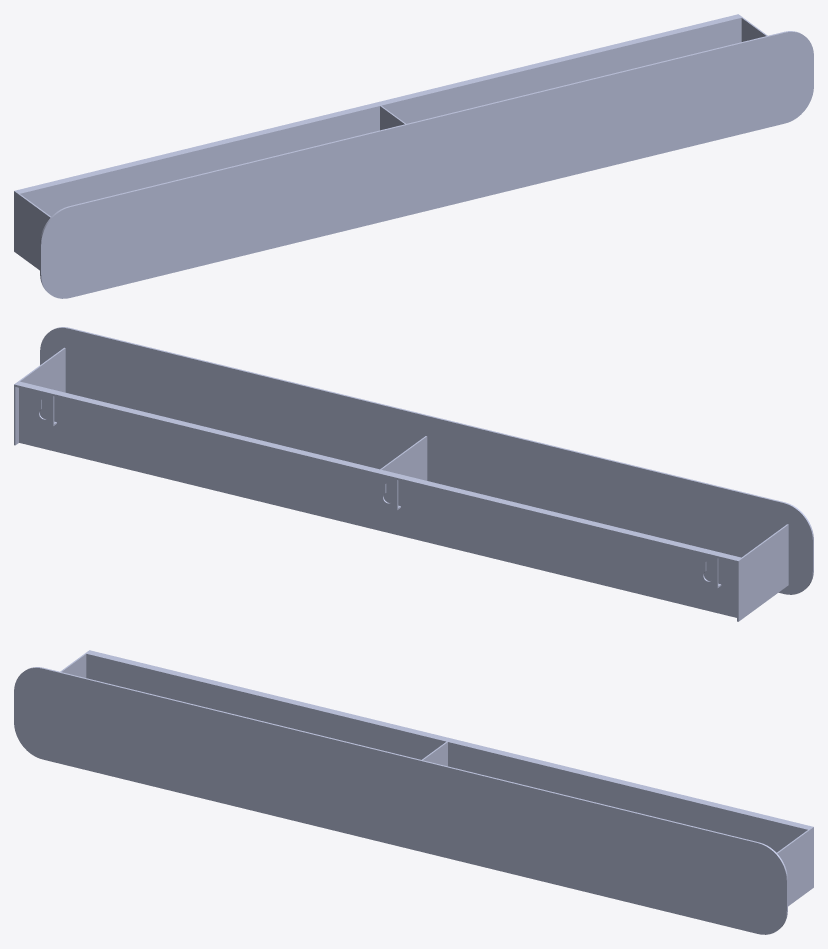
Rendered from radius-mono.87a4a448ff.glb.
3 renders of one model, top to bottom at view 1: azimuth 30°, elevation 25°; view 2: azimuth 150°, elevation 25°; view 3: azimuth 330°, elevation 25°, orthographic.
Visible parts, largest first — view 1: NAUO1; view 2: NAUO1; view 3: NAUO1.
Boxes of the visible parts, <box> form: NAUO1: <box>14,14,813,298</box>; NAUO1: <box>14,327,813,621</box>; NAUO1: <box>14,650,813,934</box>.
Bounding box in the file's own units: 0.8 × 0.0899 × 0.092.
